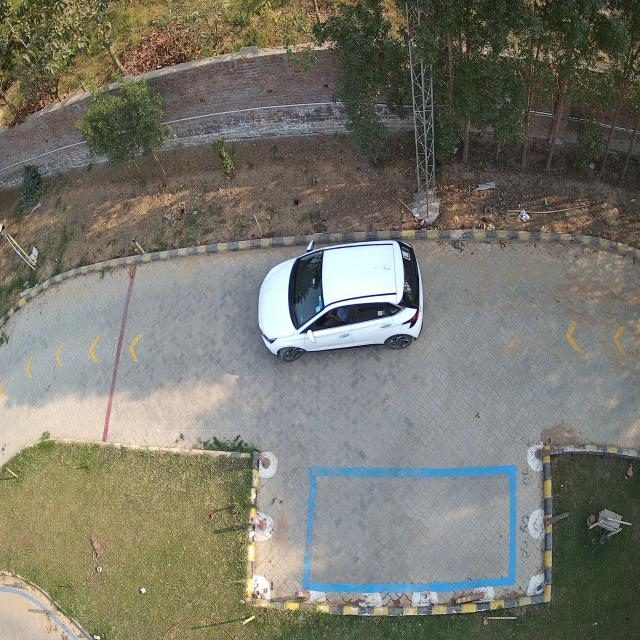car: (259, 240, 422, 362)
